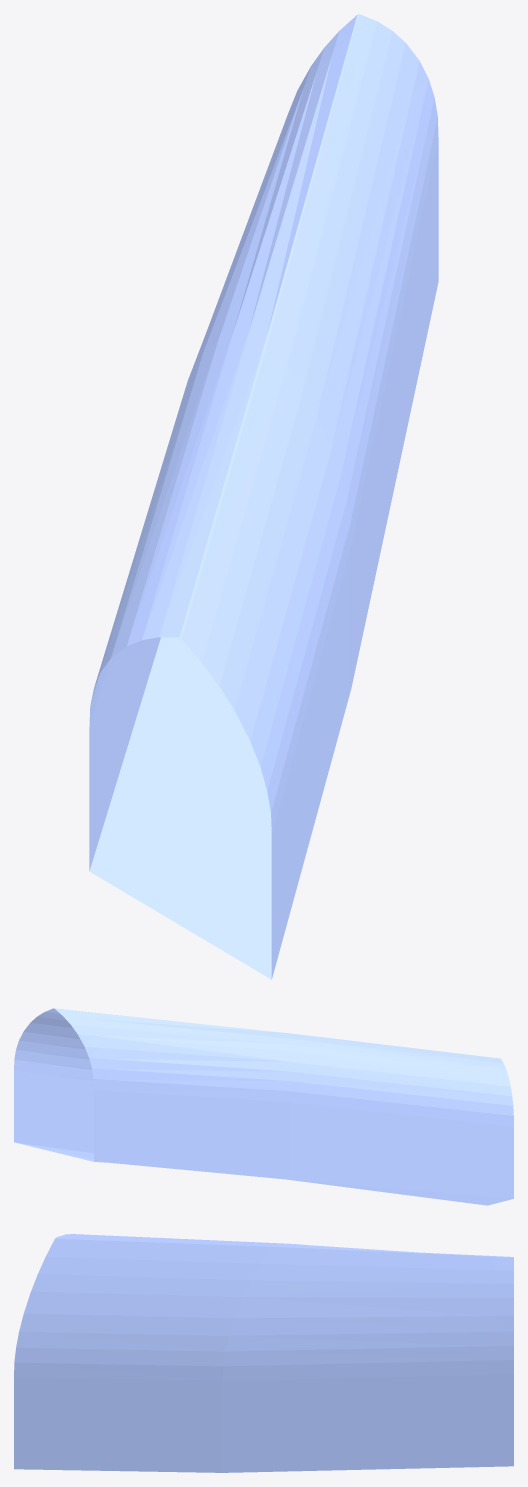
Rendered from Volumetric light.FBX.
3 views of the same model, one above another, from view 1: azimuth 30°, elevation 25°; view 2: azimuth 150°, elevation 25°; view 3: azimuth 270°, elevation 25° (orthographic). The views are drawn at different scales.
Parts seen in each view (by area): view 1: Object002; view 2: Object002; view 3: Object002.
Boxes of the visible parts, bbox=[...] form: Object002: bbox=[89, 14, 438, 979]; Object002: bbox=[14, 1008, 513, 1205]; Object002: bbox=[14, 1234, 513, 1472].
Size of the model in its own units: 309 by 310 by 247.
